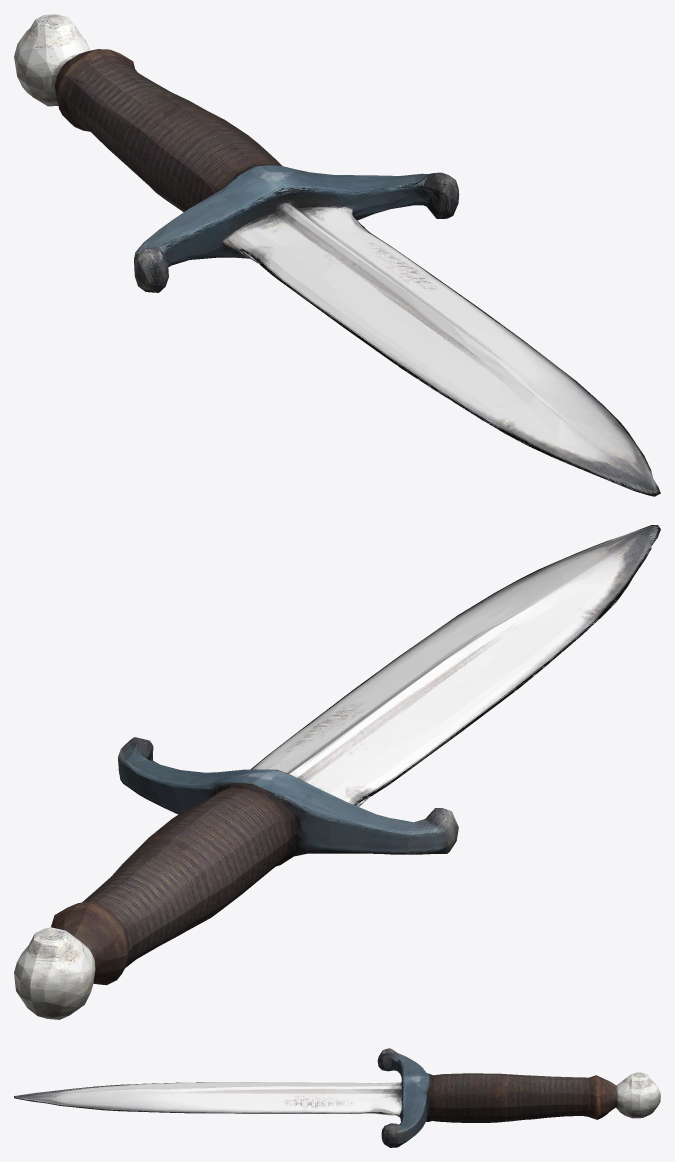
File: dagger3d.glb
The picture shows the model from 3 angles, top to bottom: view 1: azimuth 30°, elevation 25°; view 2: azimuth 150°, elevation 25°; view 3: azimuth 270°, elevation 25°; orthographic projection. The views are drawn at different scales.
Visible parts, largest first — view 1: world; view 2: world; view 3: world.
Boxes of the visible parts, bbox=[...] form: world: bbox=[14, 14, 660, 496]; world: bbox=[14, 525, 660, 1019]; world: bbox=[14, 1048, 660, 1147].
Bounding box in the file's own units: 0.3013 × 0.0782 × 0.9977.
1 material, 1 textured.
